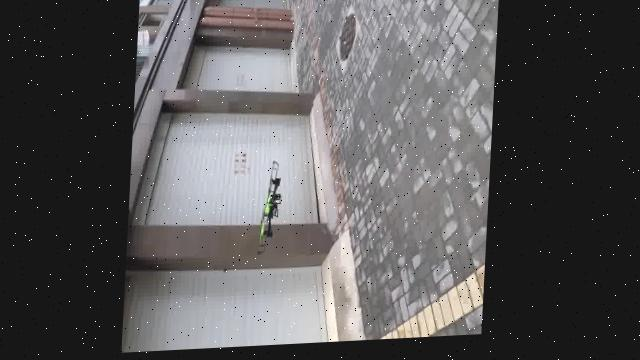drone: (247, 155, 295, 256)
